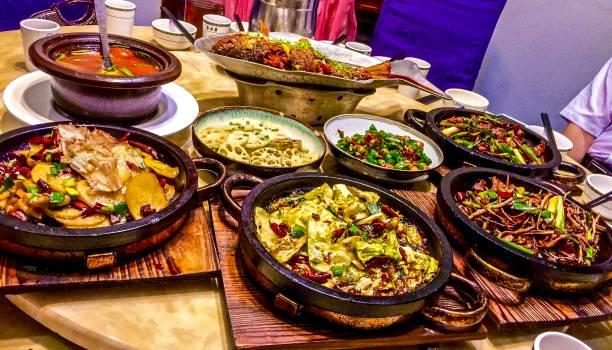Braised Crucian Carp: (231, 170, 457, 330), (0, 121, 213, 265), (435, 166, 611, 297), (194, 31, 418, 92), (190, 103, 325, 177), (423, 106, 556, 180), (322, 111, 444, 184), (585, 172, 612, 220)
